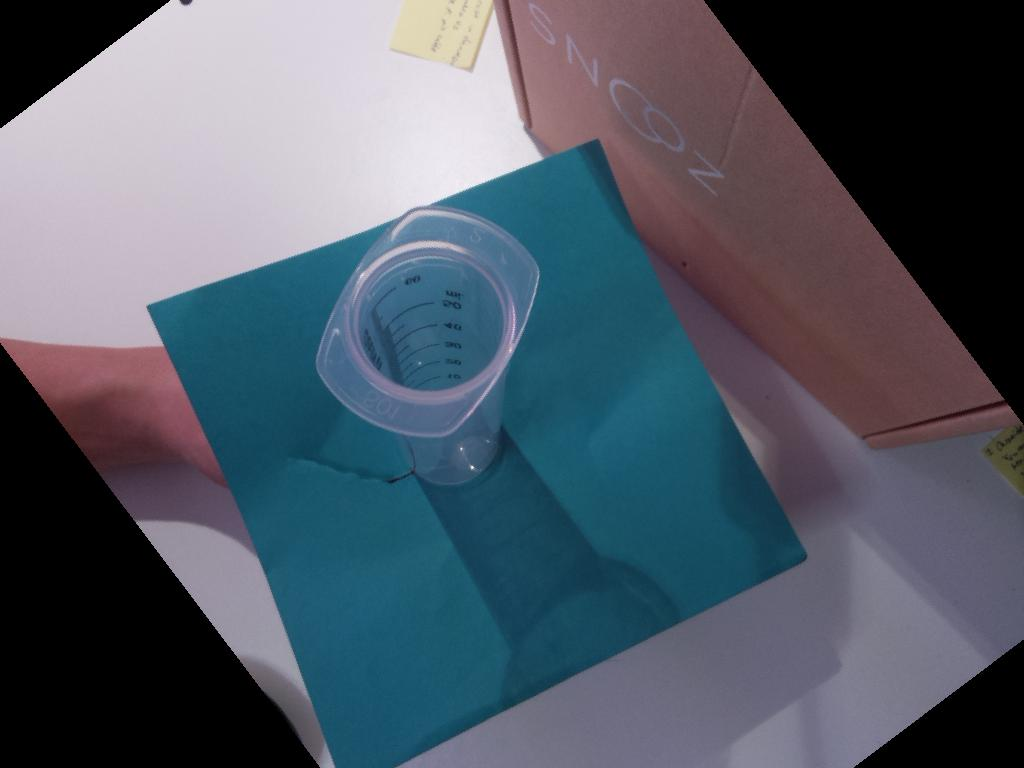clean: (315, 204, 543, 437)
